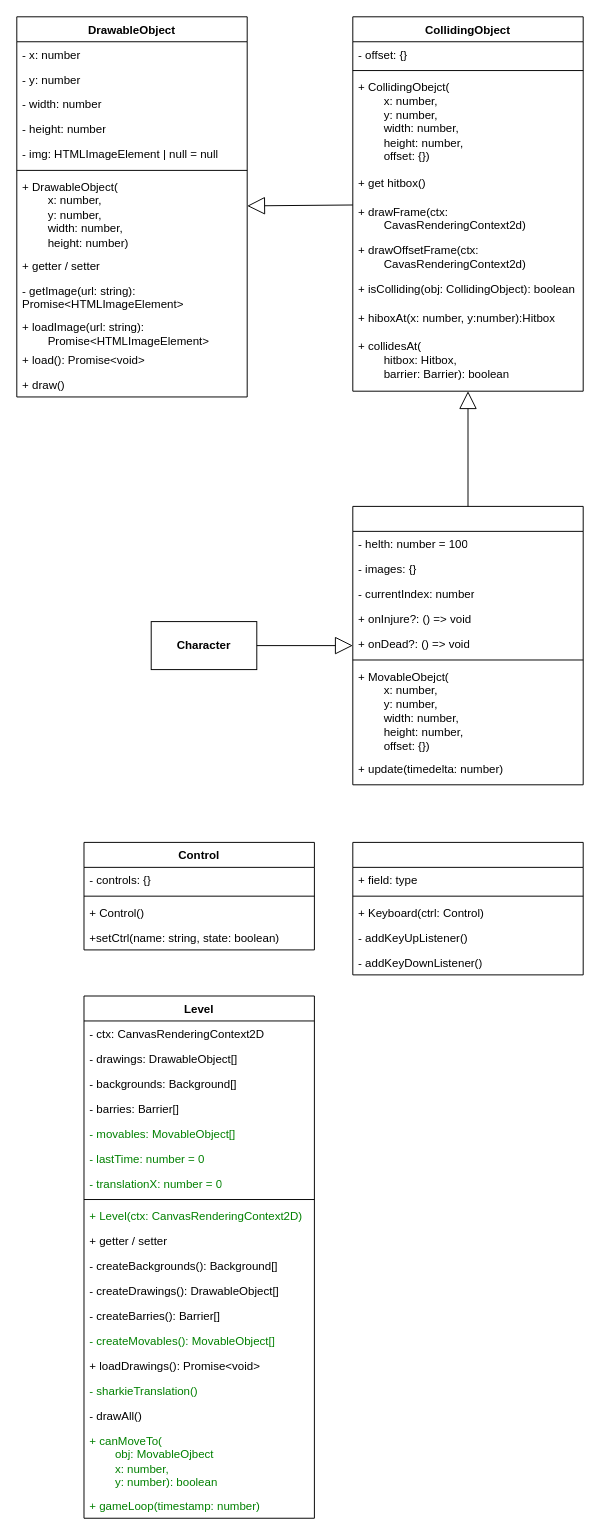
The diagram is 600 pixels wide and 1538 high, and some of its shapes have lost their labels. Each missing label, with the box of its shape:
Keybord: (352, 841, 583, 975)
MovableObject: (352, 505, 583, 785)
